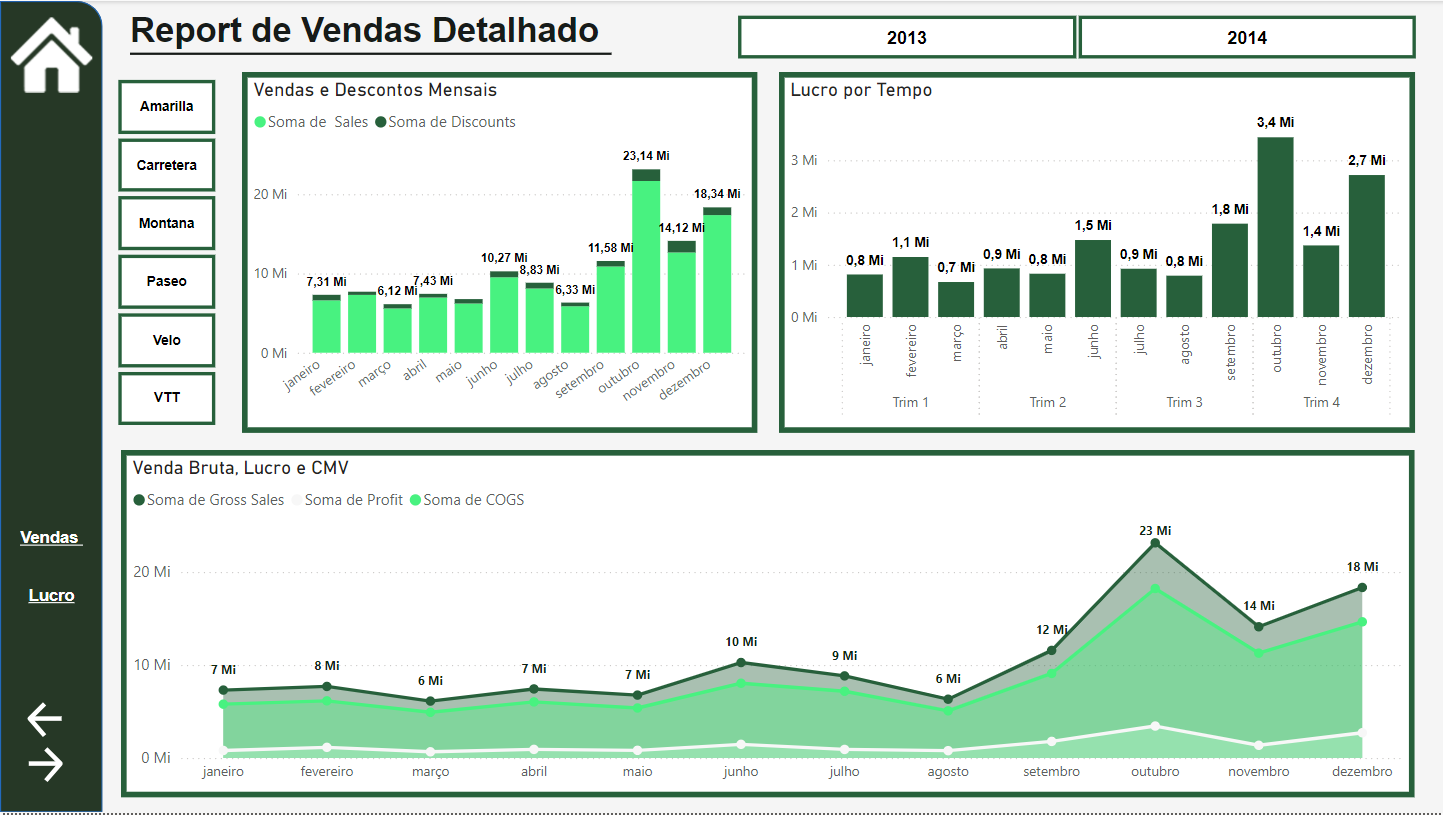

The page's visual inventory and layout, read from the dashboard file:
{"tool":"powerbi","page":{"name":"Vendas detalhado","canvas":[1280,720],"ordinal":1},"visuals":[{"type":"shape","box":[0,0,90.9,719.4],"z":0},{"type":"image","title":"Imagem - Home","box":[0,0,91.4,95.3],"z":0,"group":"g1"},{"type":"textbox","title":"Menu Paginas","box":[0,461.7,91.4,110],"z":0,"group":"g2"},{"type":"actionButton","title":"B- Home - Pag3","box":[0,7.9,91.4,77.6],"z":1000,"group":"g1"},{"type":"actionButton","title":"B- Página Vendas De","box":[8.8,462,73.7,34.4],"z":1000,"group":"g2"},{"type":"actionButton","box":[20.6,616.9,50.1,40.3],"z":1000},{"type":"shape","box":[114.9,7.9,427.3,77.6],"z":2000},{"type":"actionButton","title":"B- Página Lucro","box":[7.9,511.1,73.7,28.5],"z":2000,"group":"g2"},{"type":"lineStackedColumnComboChart","title":"Vendas e Descontos Mensais","fields":{"Category":["financials.Date.Variation.Hierarquia de datas.Mês"],"Y":["Sum(financials. Sales)","Sum(financials.Discounts)"]},"box":[214.2,62.9,456.8,320.2],"z":3000},{"type":"lineChart","title":"Venda Bruta, Lucro e CMV ","fields":{"Category":["financials.Date.Variation.Hierarquia de datas.Mês"],"Y":["Sum(financials.Gross Sales)","Sum(financials.Profit)","Sum(financials.COGS)"]},"box":[107.1,397.9,1147.4,308.5],"z":4000},{"type":"clusteredColumnChart","title":"Lucro por Tempo","fields":{"Category":["financials.Date.Variation.Hierarquia de datas.Trimestre","financials.Date.Variation.Hierarquia de datas.Mês"],"Y":["Sum(financials.Profit)"]},"box":[690.6,62.9,563.9,320.2],"z":5000},{"type":"slicer","fields":{"Values":["financials.Date.Variation.Hierarquia de datas.Ano"]},"box":[630.7,7.9,649.3,48.1],"z":6000},{"type":"slicer","fields":{"Values":["financials.Product"]},"box":[78.6,62.9,135.6,320.2],"z":7000},{"type":"actionButton","title":"B- Prox Pagina","box":[19.6,657.2,50.1,40.3],"z":8000},{"type":"group","id":"g1","title":"Home Page","box":[0,0,91.4,95.3],"z":9000},{"type":"group","id":"g2","title":"Menu pagina","box":[0,461.7,91.4,110],"z":9001}]}

Visuals, with their boxes in screenshot pixels (x1, y1, x2, y2), scaled from the page's 1280x720 canvas onto the 1443x815 screenshot:
shape: locate(0, 0, 102, 814)
"Imagem - Home" image: locate(0, 0, 103, 108)
"Menu Paginas" textbox: locate(0, 523, 103, 647)
"B- Home - Pag3" actionButton: locate(0, 9, 103, 97)
"B- Página Vendas De" actionButton: locate(10, 523, 93, 562)
actionButton: locate(23, 698, 80, 744)
shape: locate(130, 9, 611, 97)
"B- Página Lucro" actionButton: locate(9, 579, 92, 611)
"Vendas e Descontos Mensais" lineStackedColumnComboChart: locate(241, 71, 756, 434)
"Venda Bruta, Lucro e CMV " lineChart: locate(121, 450, 1414, 800)
"Lucro por Tempo" clusteredColumnChart: locate(779, 71, 1414, 434)
slicer - financials.Date.Variation.Hierarquia de datas.Ano: locate(711, 9, 1442, 63)
slicer - financials.Product: locate(89, 71, 241, 434)
"B- Prox Pagina" actionButton: locate(22, 744, 79, 790)
"Home Page" group: locate(0, 0, 103, 108)
"Menu pagina" group: locate(0, 523, 103, 647)
